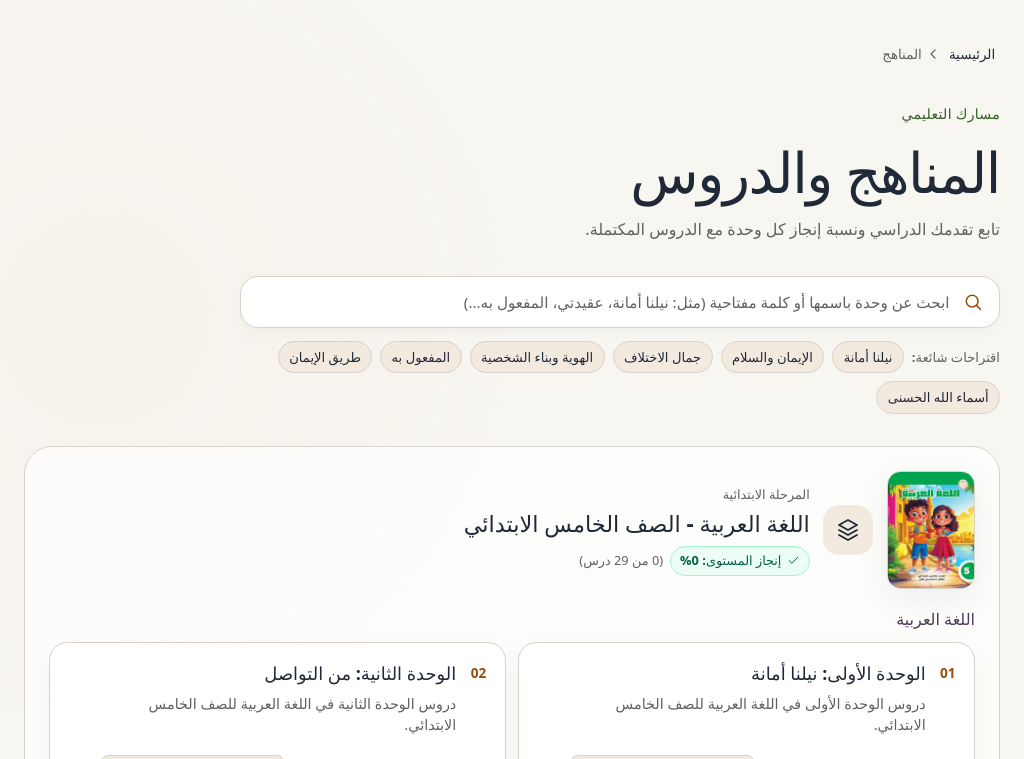
واجهة شريط البحث في صفحة المناهج (CurriculumPage Search Bar UI) › يمسح البحث ويعيد كامل الوحدات عند الضغط على زر المسح أو مسح التصفية
This screenshot has width=1024, height=759.
Replace the text in the search field labelled "ابحث عن وحدة" with "الإيمان والسلام": (620, 302) left=240, top=276, right=1000, bottom=328
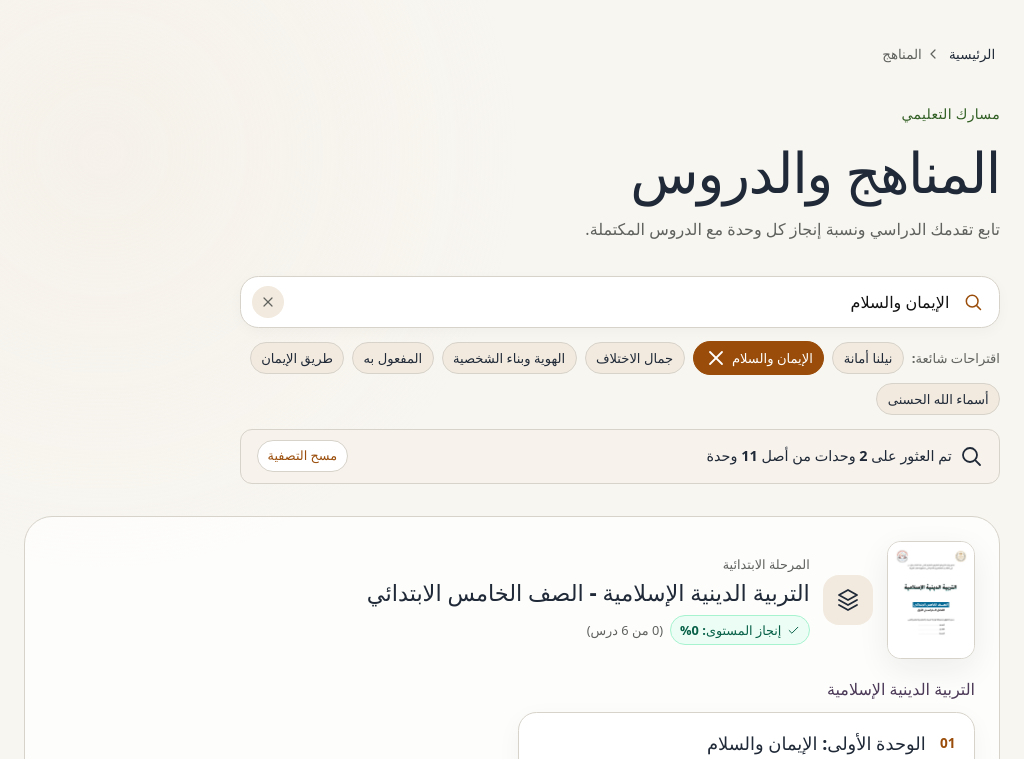
Click the button named "مسح نص البحث": (268, 302) left=252, top=286, right=284, bottom=318
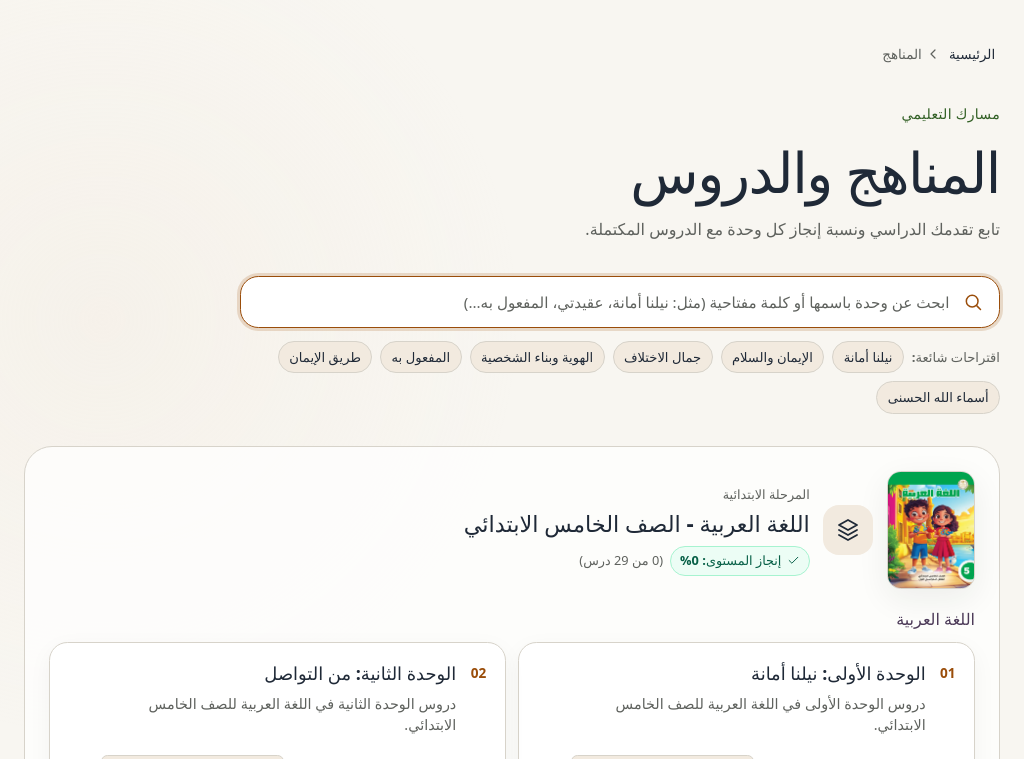
Now the search field labelled "ابحث عن وحدة" is empty, box left=240, top=276, right=1000, bottom=328
Now the heading "الوحدة الأولى: نيلنا أمانة" is shown, box left=751, top=661, right=926, bottom=685
